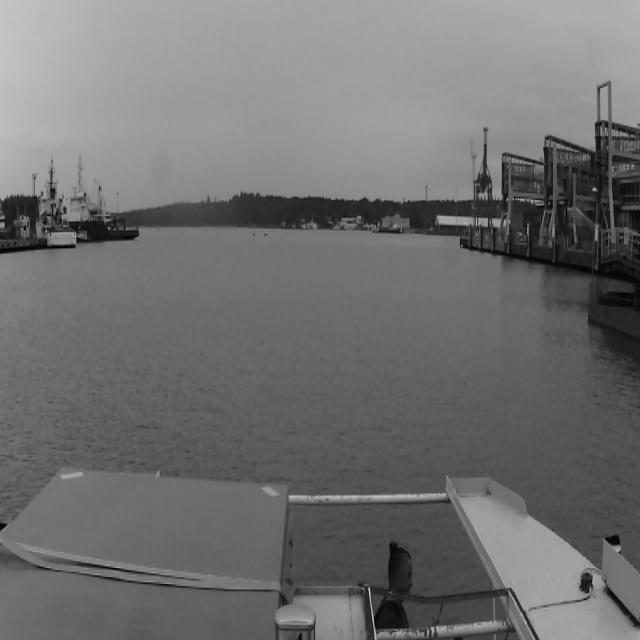buoy: (252, 223, 256, 236)
ship: (62, 191, 146, 251), (264, 230, 268, 237)
